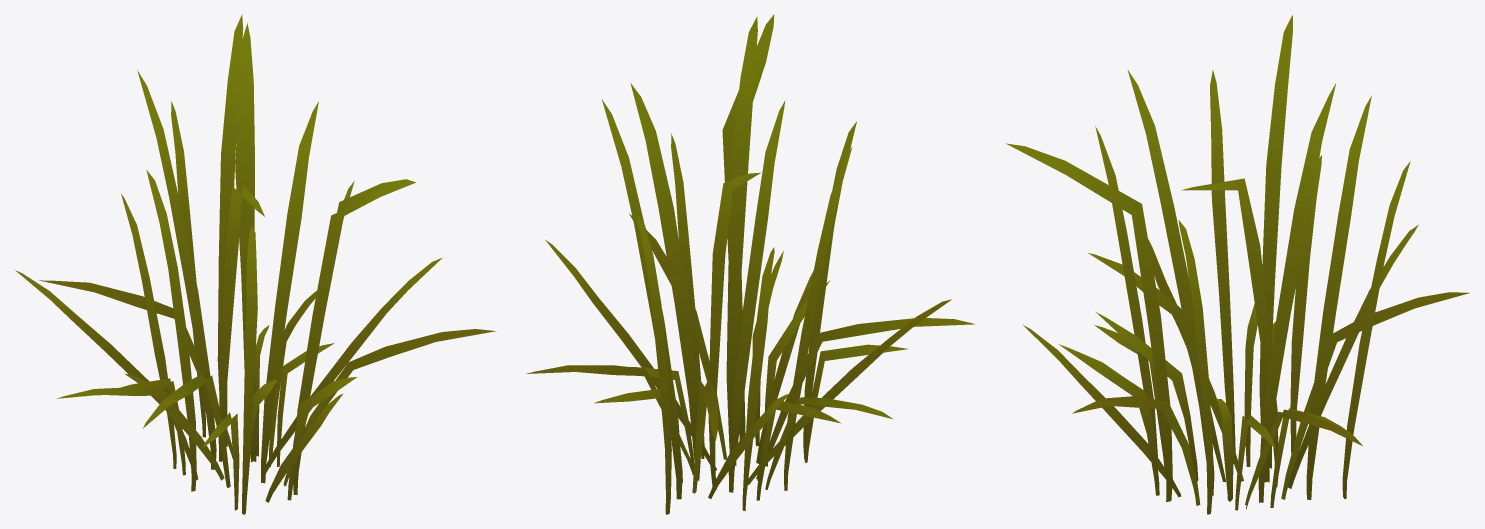
Rendered from nkgrasswispy.glb.
3 renders of one model, left to right at view 1: azimuth 30°, elevation 25°; view 2: azimuth 150°, elevation 25°; view 3: azimuth 270°, elevation 25°, orthographic. The views are drawn at different scales.
Visible parts, largest first — view 1: Grass_Wispy_Tall; view 2: Grass_Wispy_Tall; view 3: Grass_Wispy_Tall.
Part boxes in pixels (x1,y1,x2,y2): Grass_Wispy_Tall: [15, 14, 496, 514]; Grass_Wispy_Tall: [526, 14, 975, 514]; Grass_Wispy_Tall: [1005, 15, 1469, 514].
Bounding box in the file's own units: 1.54 × 1.67 × 1.59.
Materials: 1 (1 with a texture image).
